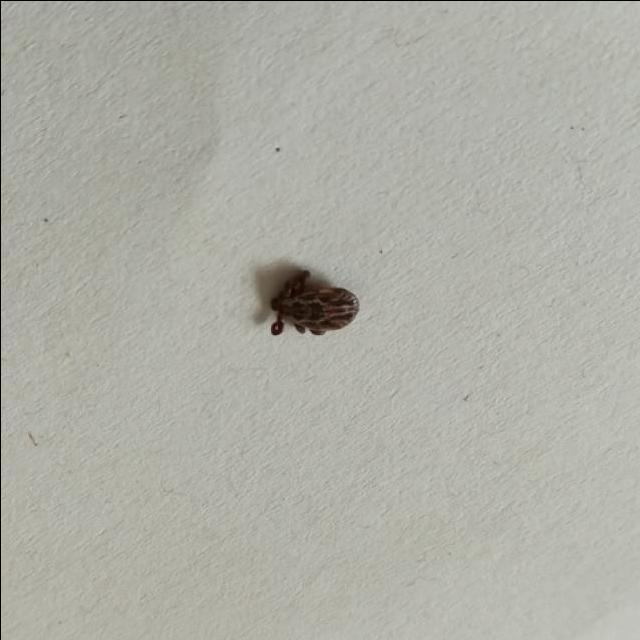Dermacentor Reticulatus-M: (267, 268, 358, 334)
